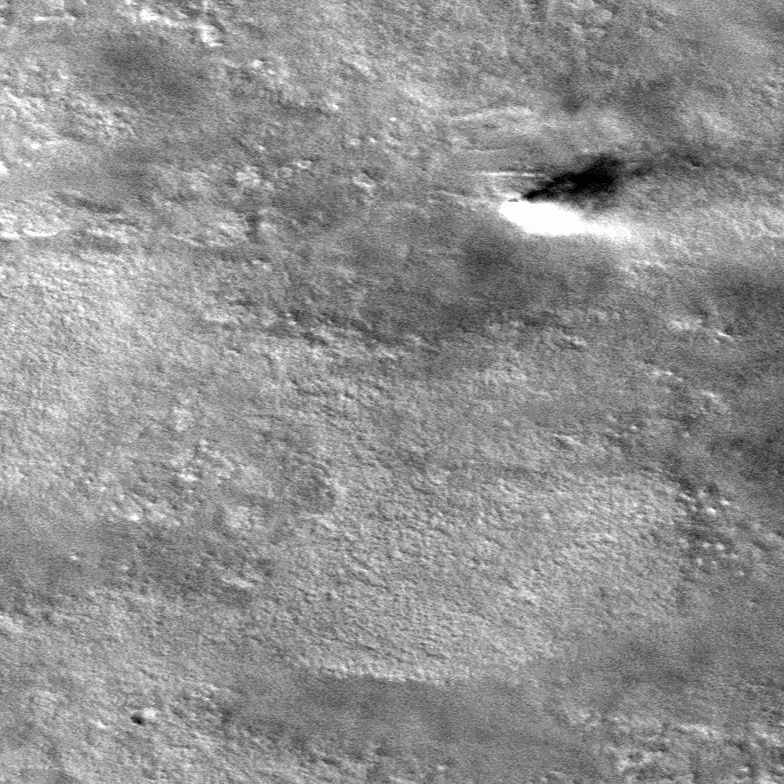dust_devil: (494, 142, 669, 247)
